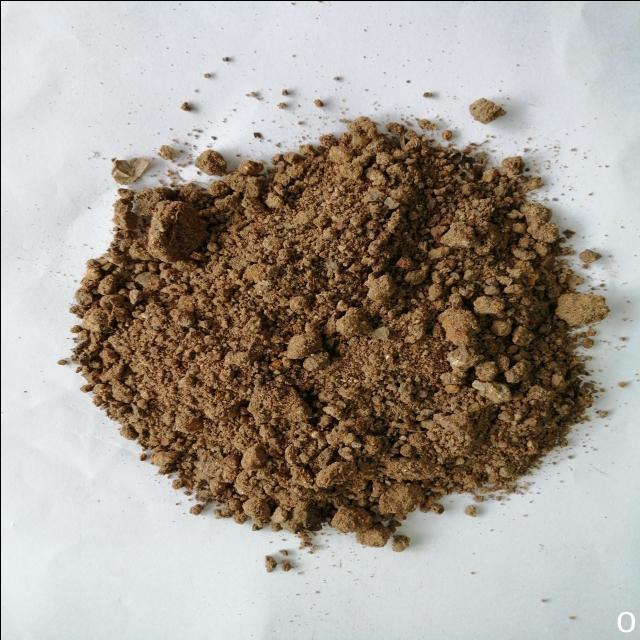soil: (174, 204, 506, 477)
